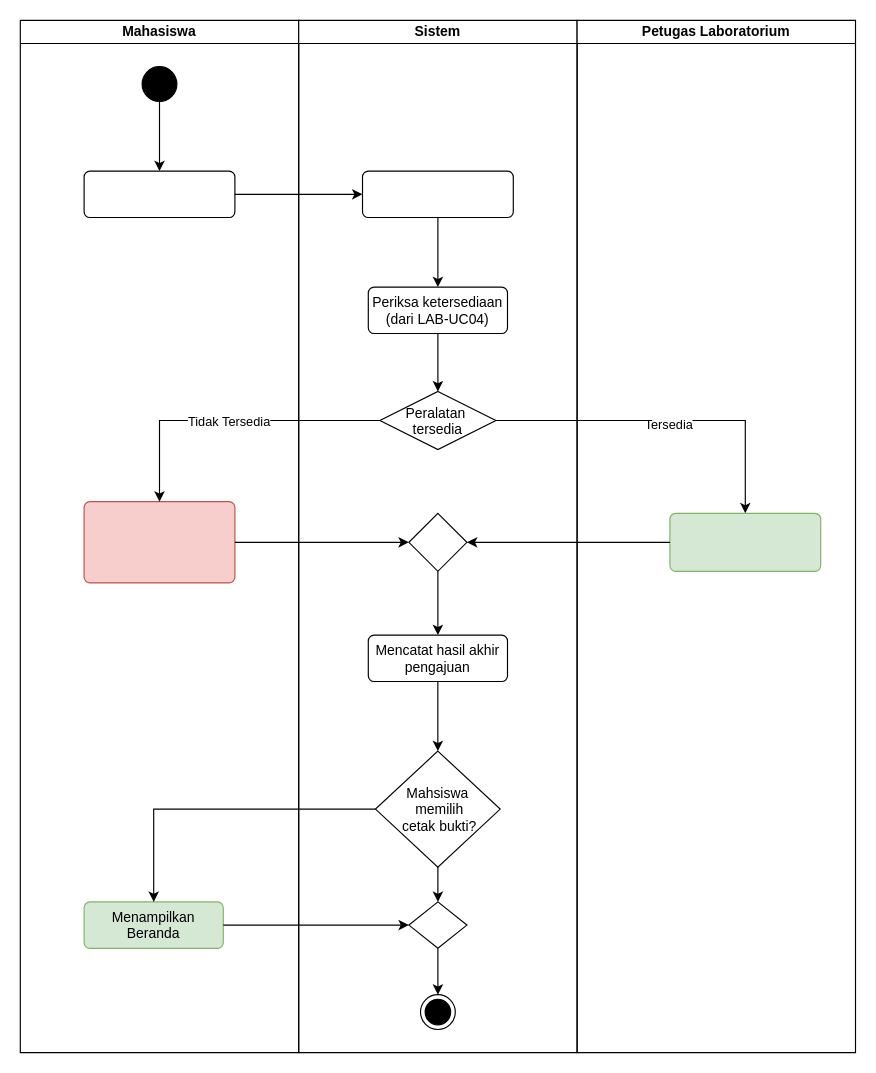
The diagram is 876 pixels wide and 1073 high, and some of its shapes have lost their labels. The shapes that lost their labels are listed below. From the top down, each one's centre as x and y in pixels, then its label:
At point 159,193: "Mengisi formulir pengajuan peminjaman".
At point 437,193: "Menyimpan data pengajuan peminjaman".
At point 159,542: "Menerima pemberitahuan pengajuan tidak terpenuhi".
At point 745,541: "Memproses keputusan Peminjaman".
